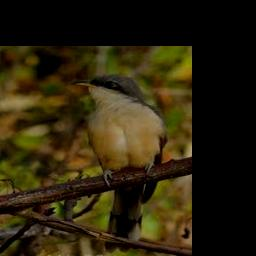Cuckoo: (71, 75, 169, 253)
